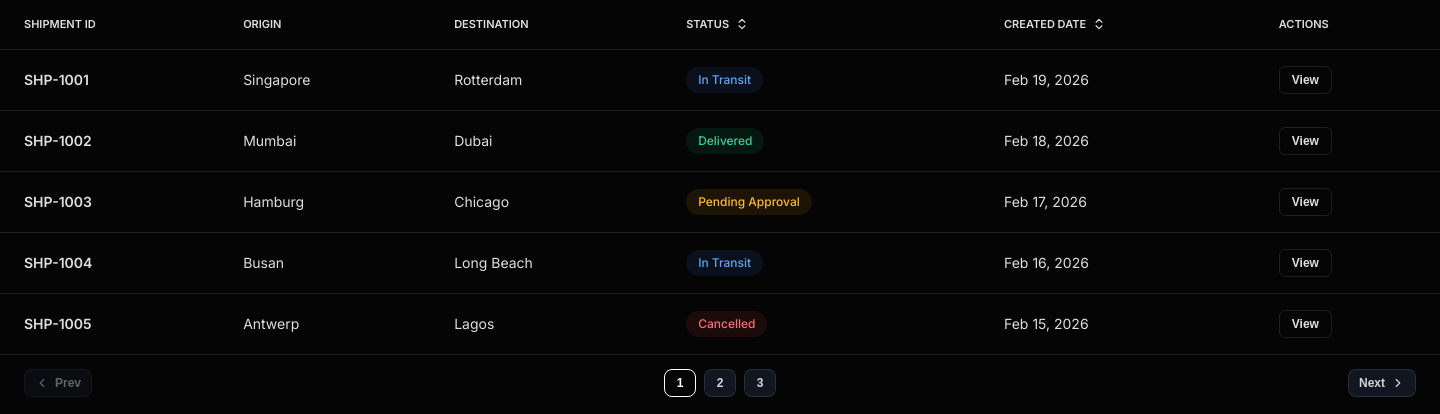
RecentShipments › sorts by created date when header is clicked
This screenshot has width=1440, height=414.
Expected: the text "SHP-1001" is shown, x1=0 y1=49 x2=219 y2=110
Click the button named "sort by created date": {"x": 1055, "y": 24} x1=1004 y1=16 x2=1106 y2=32
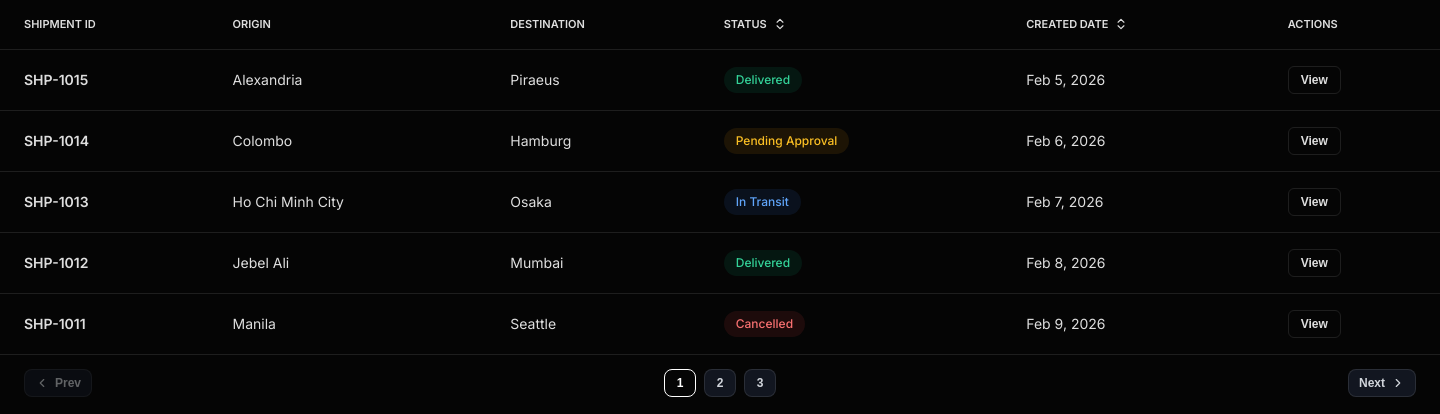
Expected: the text "SHP-1015" is shown, x1=0 y1=49 x2=208 y2=110
